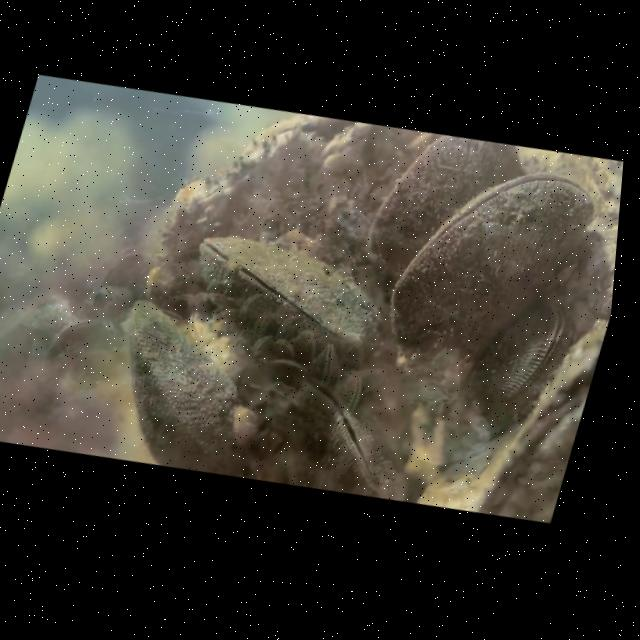Oyster-Closed: (395, 169, 610, 387), (182, 222, 390, 368), (112, 286, 254, 470), (276, 373, 400, 497), (472, 296, 574, 405), (332, 370, 366, 416), (312, 339, 344, 387), (273, 311, 310, 345), (237, 291, 269, 330), (293, 329, 320, 368), (250, 310, 280, 340)
Oyster-Indeterminate: (364, 135, 532, 286)
